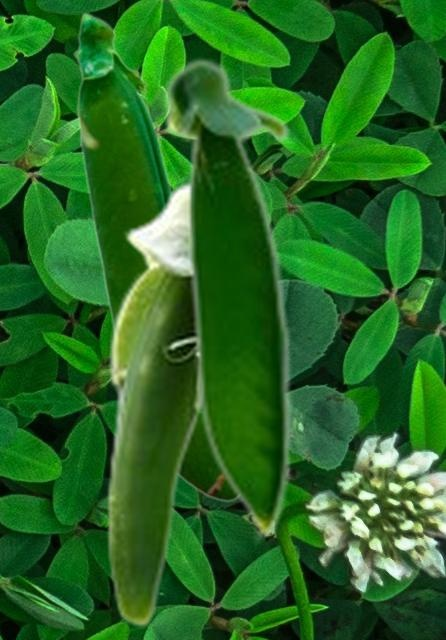pea: (73, 11, 235, 501), (161, 55, 292, 545), (105, 181, 200, 627)
